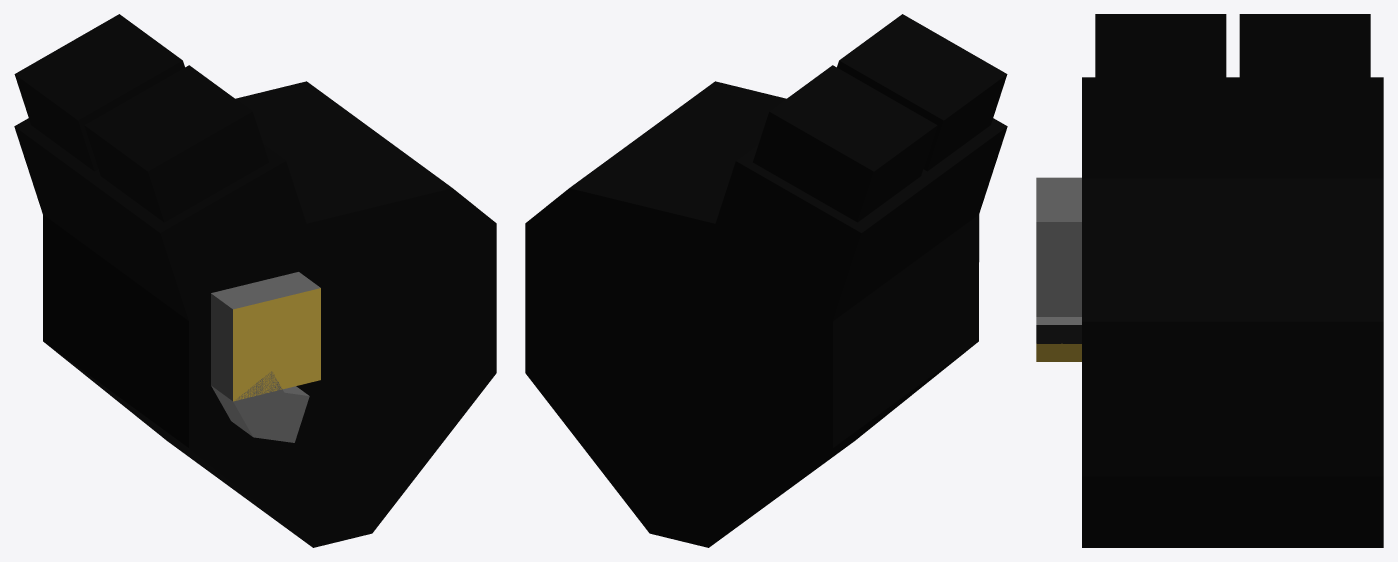
Rendered from v2insolvoturbo.obj.
The picture shows the model from 3 angles, left to right: view 1: azimuth 30°, elevation 25°; view 2: azimuth 150°, elevation 25°; view 3: azimuth 270°, elevation 25°; orthographic projection. The views are drawn at different scales.
Parts seen in each view (by area): view 1: cube, turbo; view 2: cube; view 3: cube, turbo.
Boxes of the visible parts, <box> form: cube: <box>14,14,496,547</box>; turbo: <box>211,272,320,442</box>; cube: <box>525,14,1007,547</box>; cube: <box>1082,14,1383,547</box>; turbo: <box>1036,177,1081,361</box>.
Bounding box in the file's own units: 0.5534 × 0.6871 × 0.4708.
